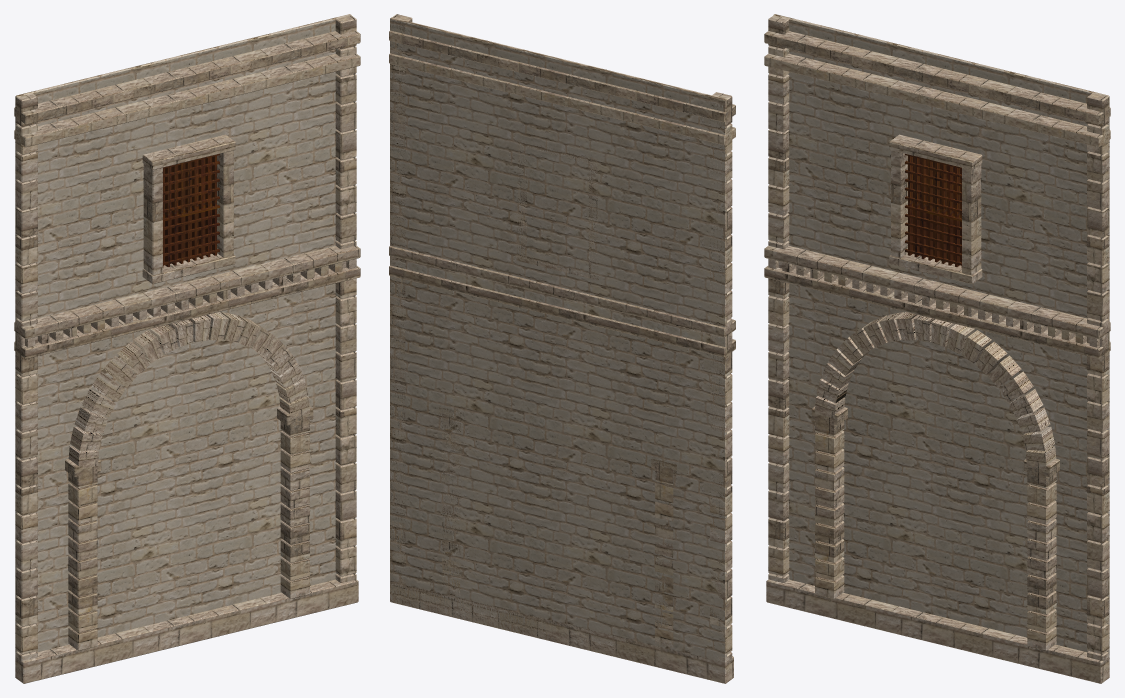
The model's file is fountain-west.glb.
3 views of the same model, side by side, from view 1: azimuth 30°, elevation 25°; view 2: azimuth 150°, elevation 25°; view 3: azimuth 330°, elevation 25° (orthographic).
Visible parts, largest first — view 1: Cut stone civic wall; view 2: Cut stone civic wall; view 3: Cut stone civic wall.
Boxes of the visible parts, bbox=[...] form: Cut stone civic wall: bbox=[14, 14, 360, 683]; Cut stone civic wall: bbox=[389, 14, 735, 683]; Cut stone civic wall: bbox=[764, 14, 1110, 683].
Size of the model in its own units: 5.72 by 9.5 by 0.37.
3 materials, 3 textured.
